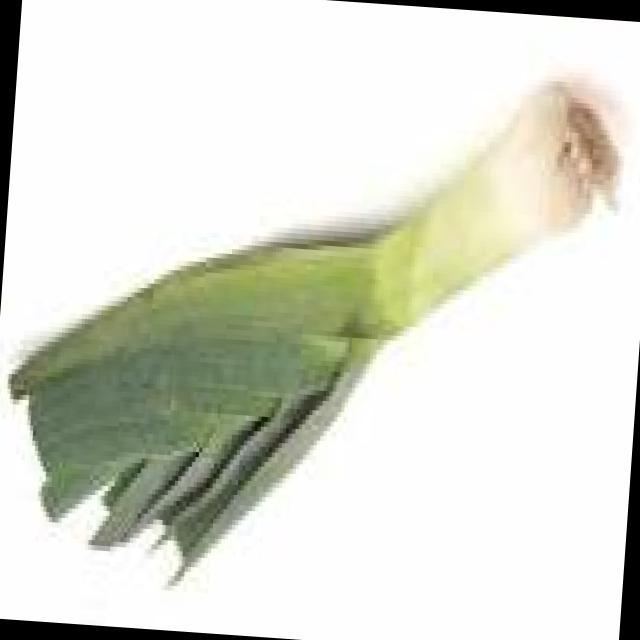Green Onions: (0, 19, 636, 625)
